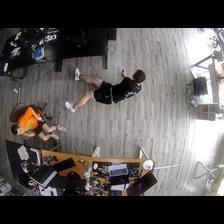fall: (64, 66, 146, 113)
normal: (10, 107, 66, 141)
